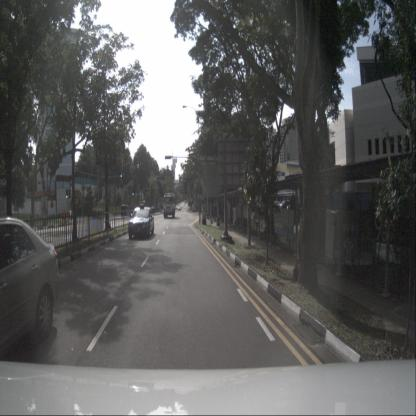vehicle-car: (0, 217, 60, 361), (128, 206, 154, 240), (279, 200, 295, 214), (120, 204, 130, 217), (270, 201, 281, 210)
vehicle-truck: (163, 192, 176, 218)
